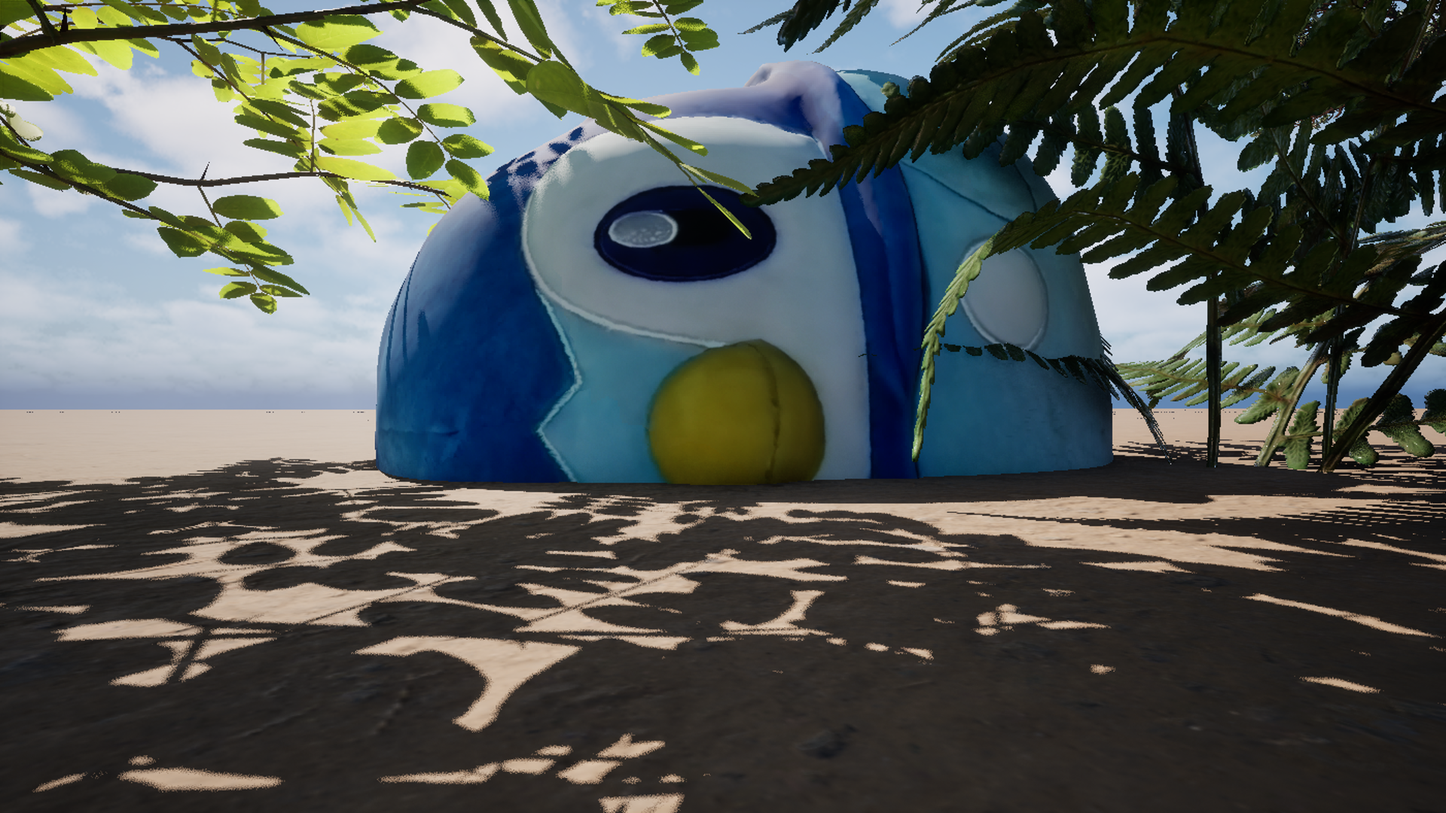Piplup: (358, 0, 1223, 813)
